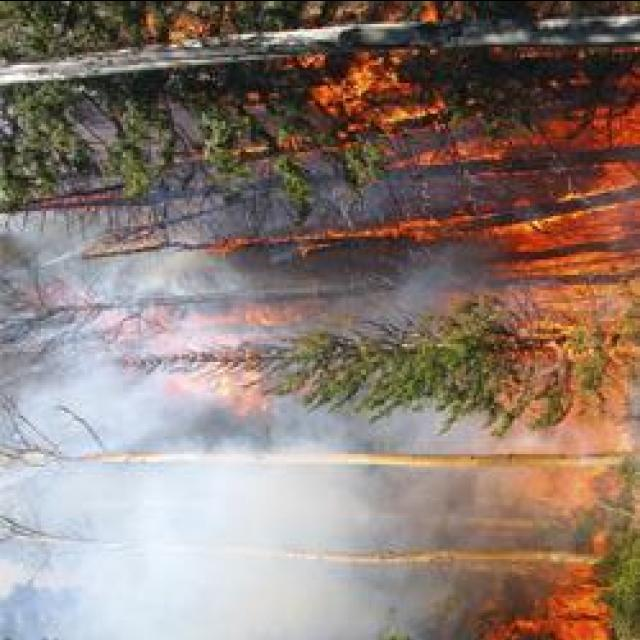fire: (518, 108, 640, 330)
smoke: (71, 430, 376, 640), (12, 194, 300, 358)
